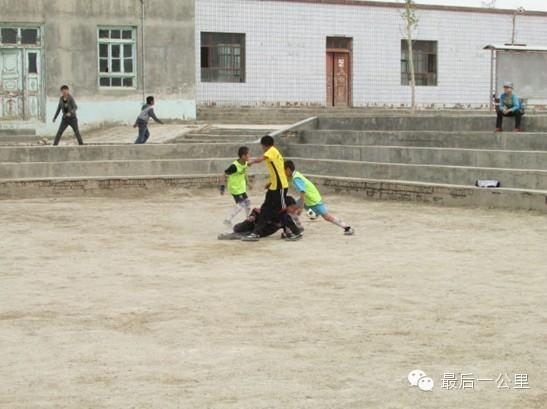Fall-Detected: (219, 192, 305, 246)
